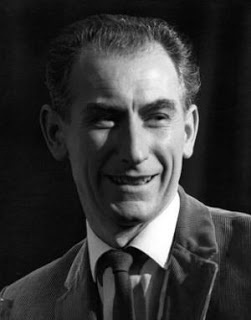bad: (67, 82, 196, 211)
